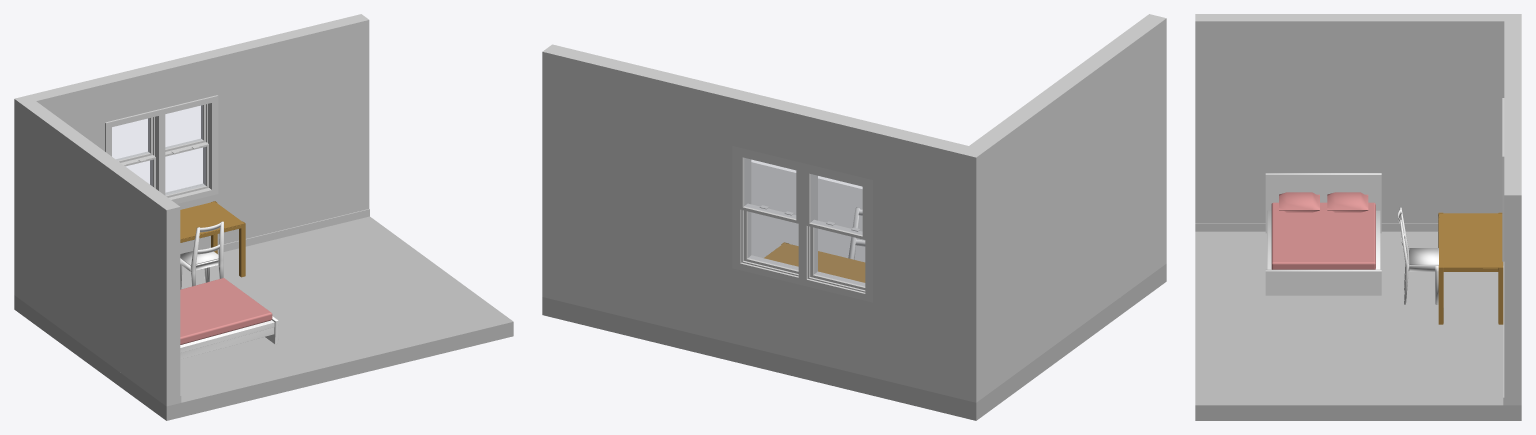
The model's file is L12_W16_furniture2_circulation2.glb.
The picture shows the model from 3 angles, left to right: view 1: azimuth 30°, elevation 25°; view 2: azimuth 150°, elevation 25°; view 3: azimuth 270°, elevation 25°; orthographic projection. The views are drawn at different scales.
Size of the model in its own units: 200 by 116 by 152.
